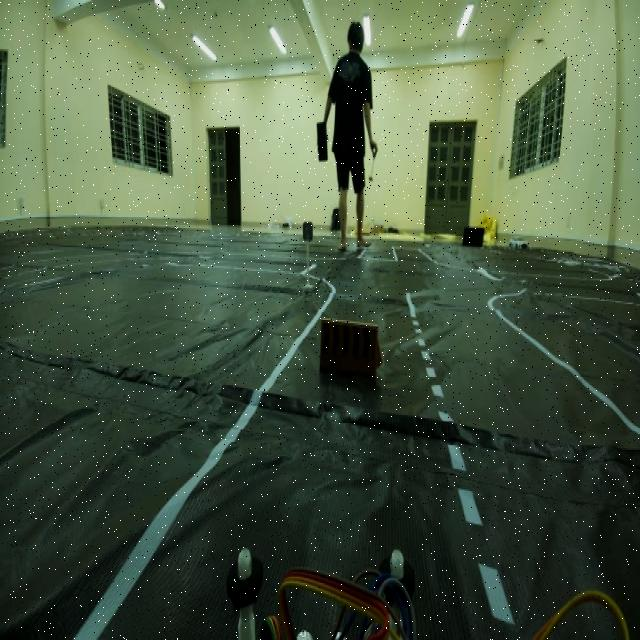roadblock: (315, 308, 389, 394)
